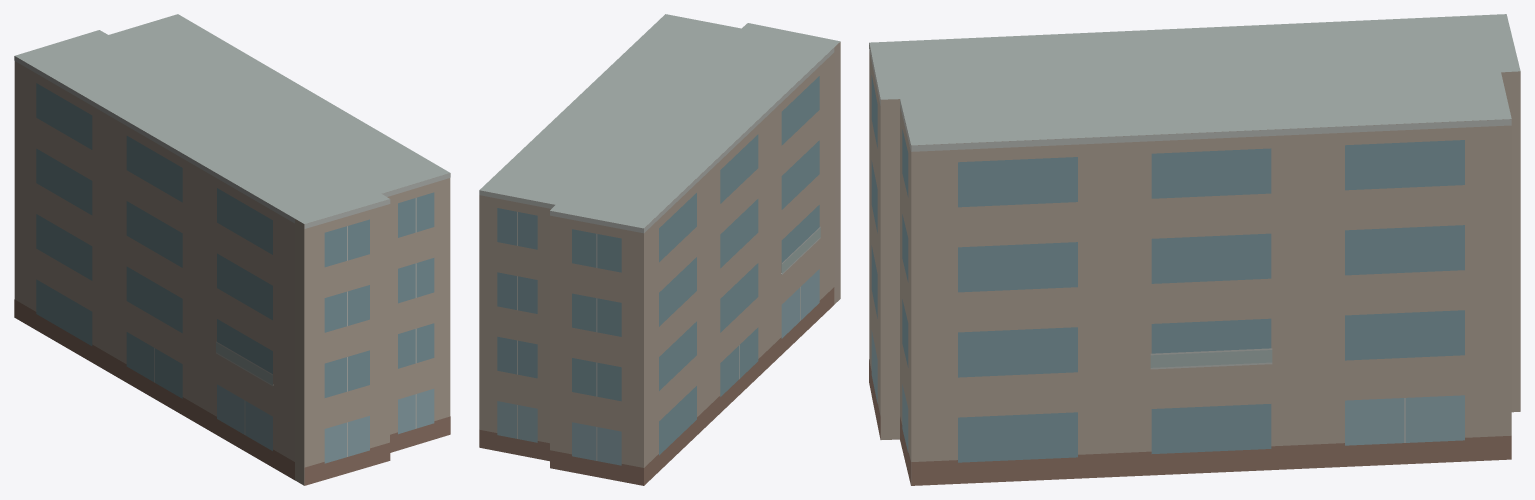
File: survey-upis-32636854.glb
3 views of the same model, side by side, from view 1: azimuth 30°, elevation 25°; view 2: azimuth 150°, elevation 25°; view 3: azimuth 270°, elevation 25° (orthographic). The views are drawn at different scales.
Visible parts, largest first — view 1: survey-upis-32636854.tmp; view 2: survey-upis-32636854.tmp; view 3: survey-upis-32636854.tmp.
Boxes of the visible parts, bbox=[...] form: survey-upis-32636854.tmp: bbox=[14, 14, 450, 485]; survey-upis-32636854.tmp: bbox=[479, 14, 840, 485]; survey-upis-32636854.tmp: bbox=[869, 14, 1520, 485].
Size of the model in its own units: 10.69 by 12.9 by 22.38.
